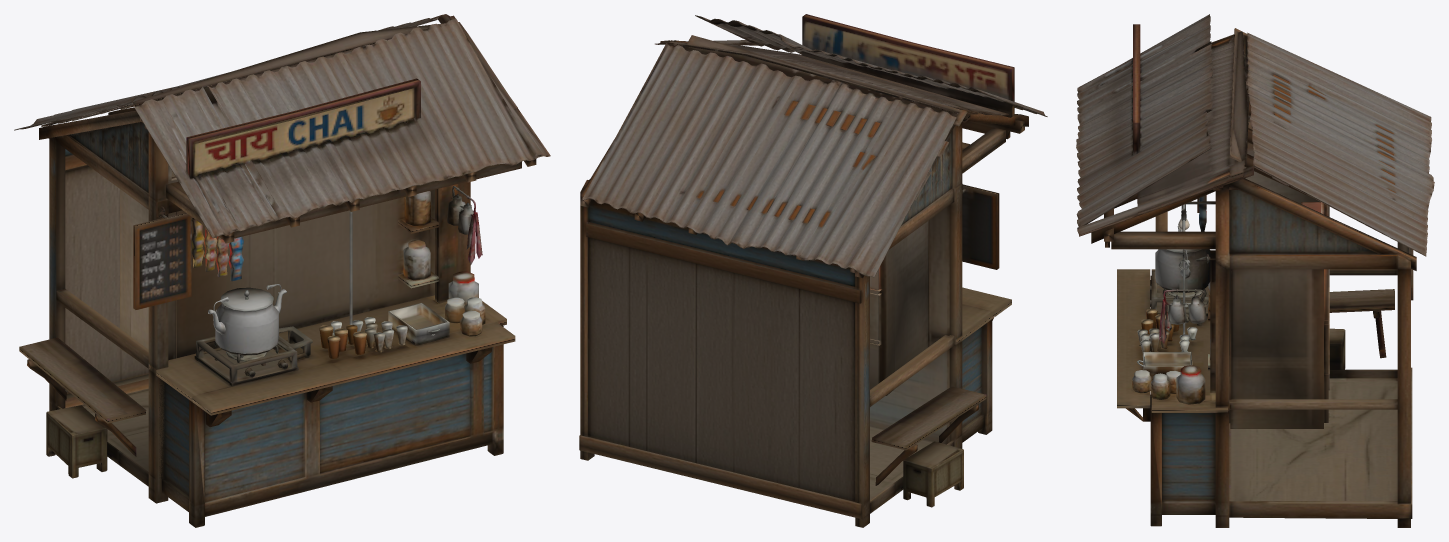
File: chai+stall+3d+model.glb
The picture shows the model from 3 angles, left to right: view 1: azimuth 30°, elevation 25°; view 2: azimuth 150°, elevation 25°; view 3: azimuth 270°, elevation 25°; orthographic projection. The views are drawn at different scales.
Visible parts, largest first — view 1: tripo_node_f203fd28-7166-4c12-a211-946adaf64bd3; view 2: tripo_node_f203fd28-7166-4c12-a211-946adaf64bd3; view 3: tripo_node_f203fd28-7166-4c12-a211-946adaf64bd3.
Boxes of the visible parts, left/top/right/bottom form: tripo_node_f203fd28-7166-4c12-a211-946adaf64bd3: left=14, top=14, right=550, bottom=527; tripo_node_f203fd28-7166-4c12-a211-946adaf64bd3: left=579, top=14, right=1047, bottom=527; tripo_node_f203fd28-7166-4c12-a211-946adaf64bd3: left=1076, top=14, right=1434, bottom=527.
Size of the model in its own units: 0.8921 by 0.981 by 0.8491.
1 material, 1 textured.
